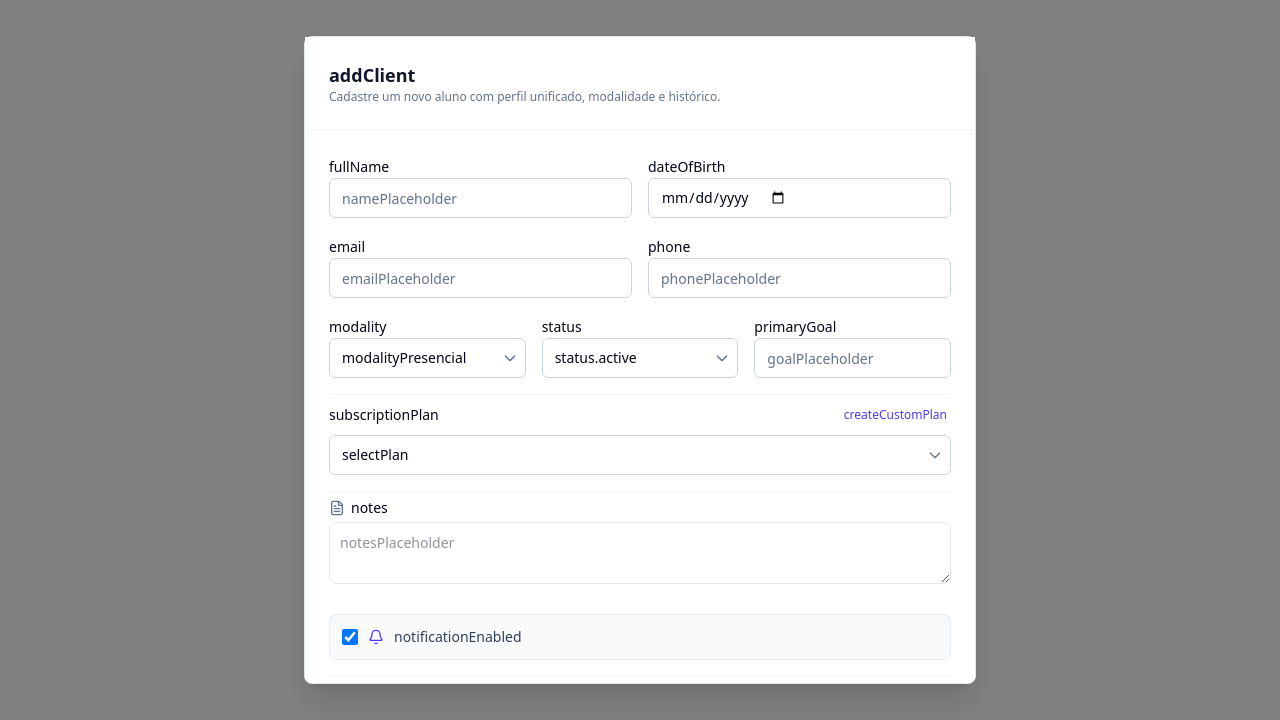
Test case: AddClientModal › shows checkInFrequency when ONLINE modality is selected
The image size is (1280, 720).
Step 1. Select "modalityOnline" in the dropdown labelled "modality" → (427, 358), box [329,338,526,378]
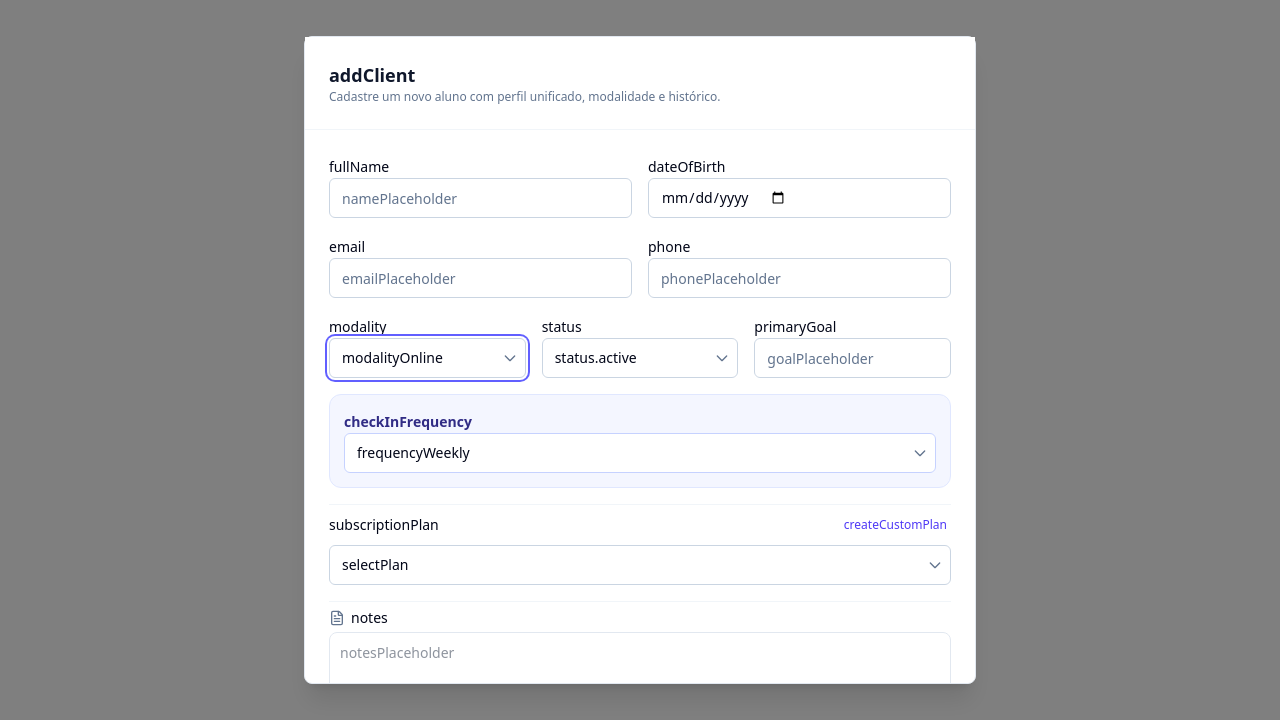
expect the text "checkInFrequency" is shown: met, box [344,412,472,431]
